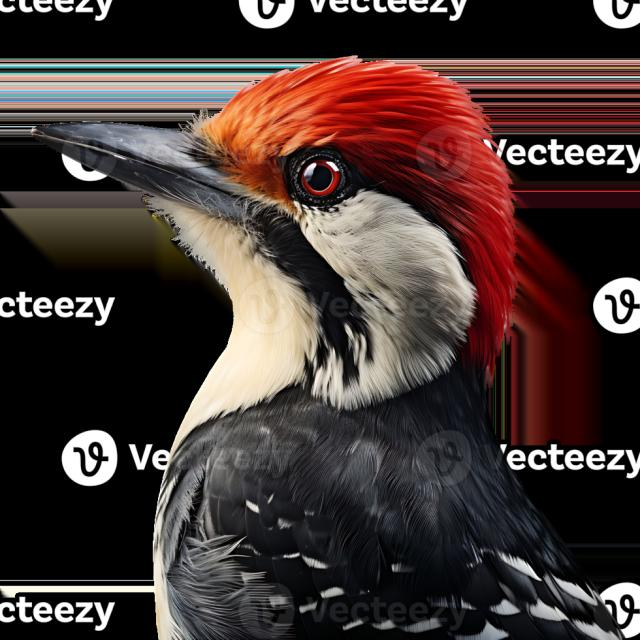Woodpecker: (33, 51, 608, 640)
